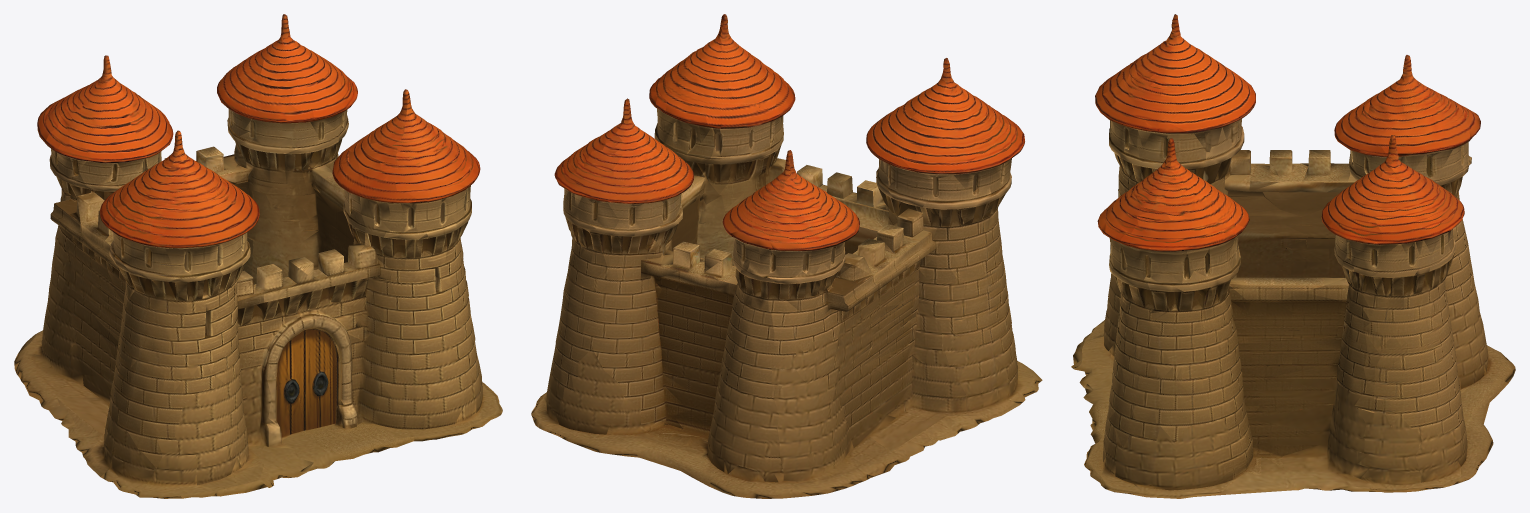
The model's file is Castle.glb.
3 views of the same model, side by side, from view 1: azimuth 30°, elevation 25°; view 2: azimuth 150°, elevation 25°; view 3: azimuth 270°, elevation 25° (orthographic).
Parts seen in each view (by area): view 1: Mesh_0; view 2: Mesh_0; view 3: Mesh_0.
Boxes of the visible parts, x1,y1,x2,y2 form: Mesh_0: [14, 14, 502, 498]; Mesh_0: [531, 14, 1042, 498]; Mesh_0: [1071, 14, 1515, 498].
Size of the model in its own units: 1.89 by 1.55 by 1.88.
Materials: 1 (1 with a texture image).
